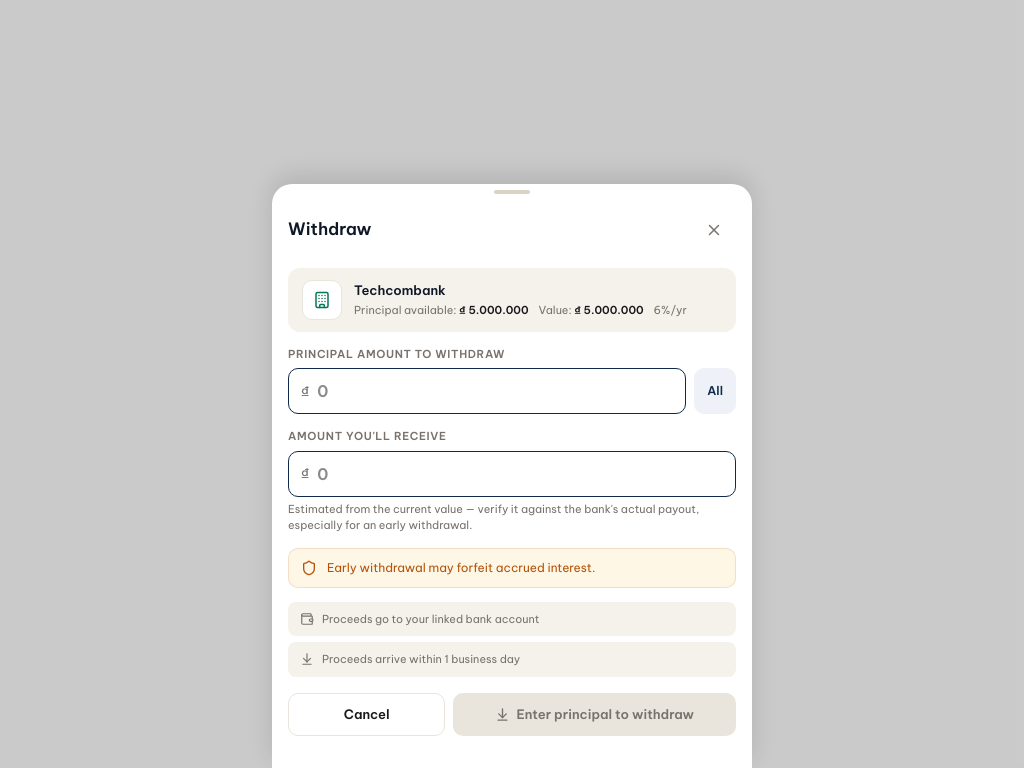
Test: SellWithdrawSheet — error path shows a real message (not a raw i18n key) › renders a localized error when the withdrawal fails without a server message
The image size is (1024, 768).
Click the button with test id "sell-all-btn" at (715, 391), box [694,368,736,414]
(page scrolled)
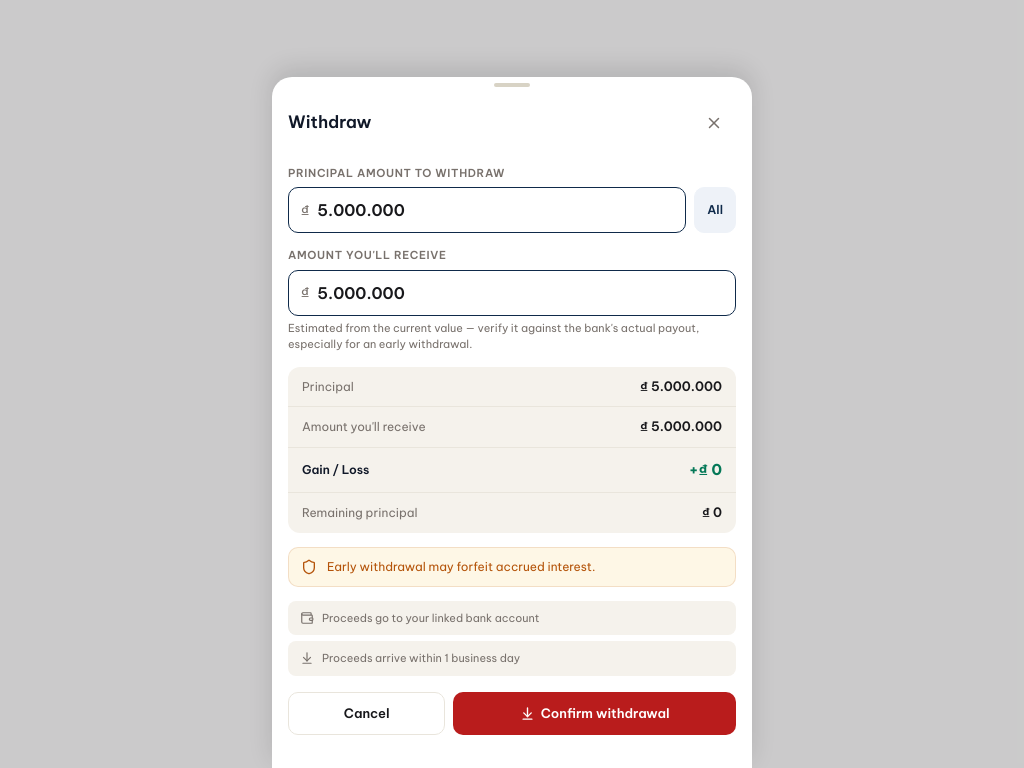
Click the button with test id "sell-confirm-btn" at (595, 714), box [453,692,736,735]
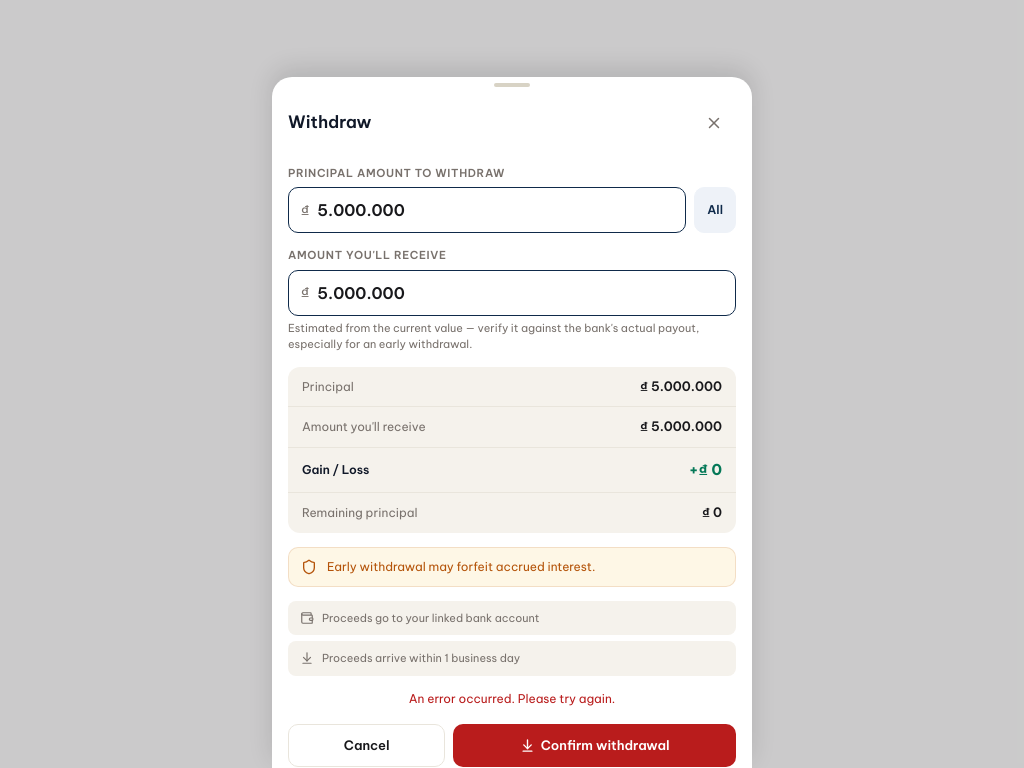
expect the text "An error occurred. Please try again." is shown: met, box [409,691,615,706]
